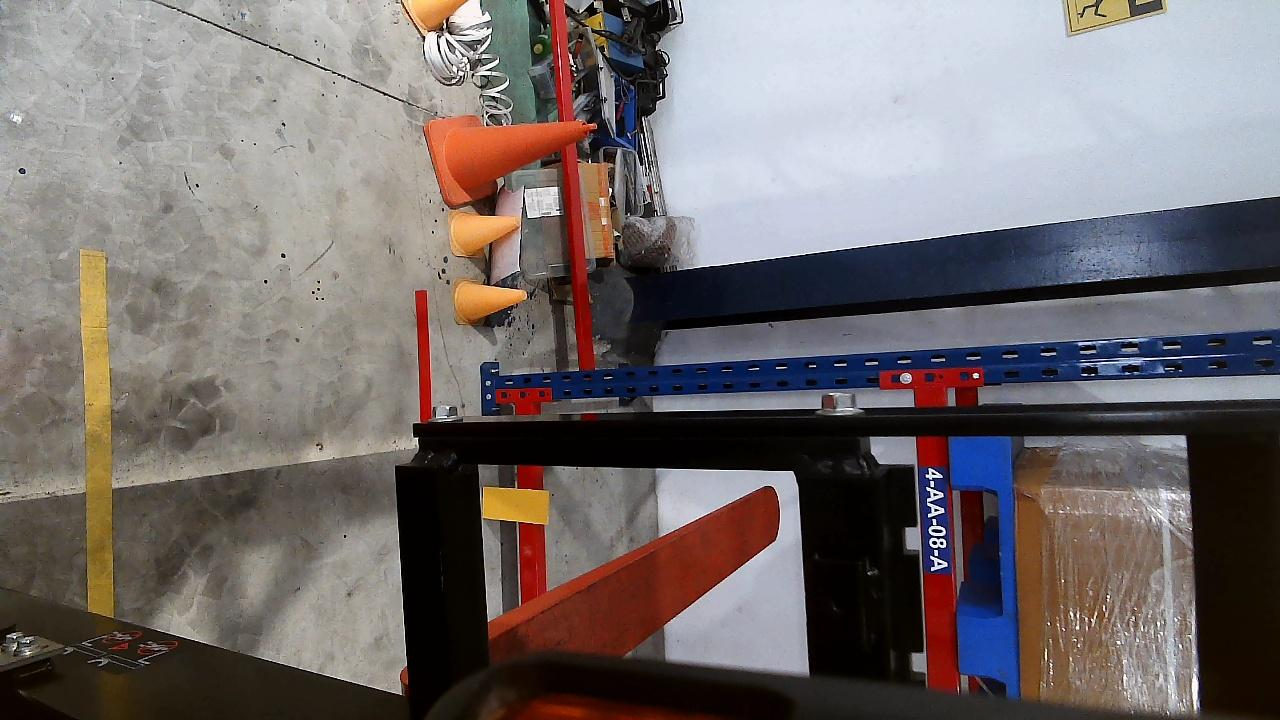h_rack: (914, 385, 961, 690)
orange_strip: (479, 487, 549, 524)
red_line: (413, 290, 432, 420)
small_pallet: (948, 440, 1021, 697)
yellow_line: (79, 248, 113, 615)
